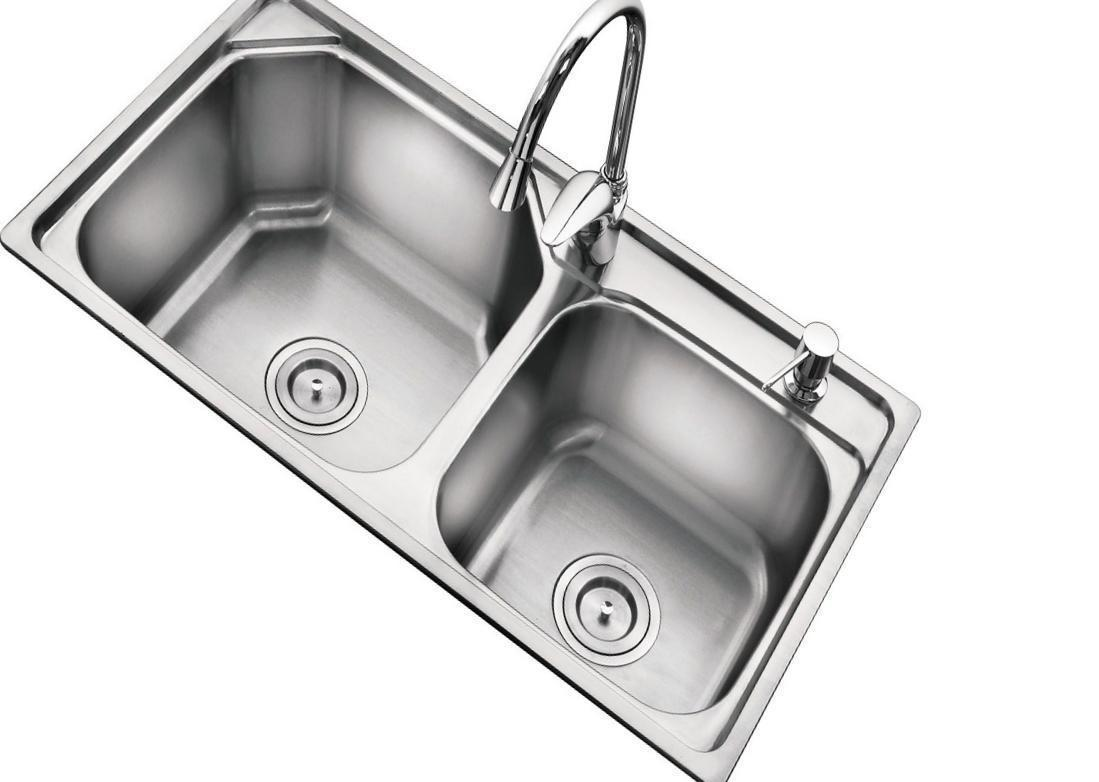Lavaplatos: (42, 29, 938, 781)
